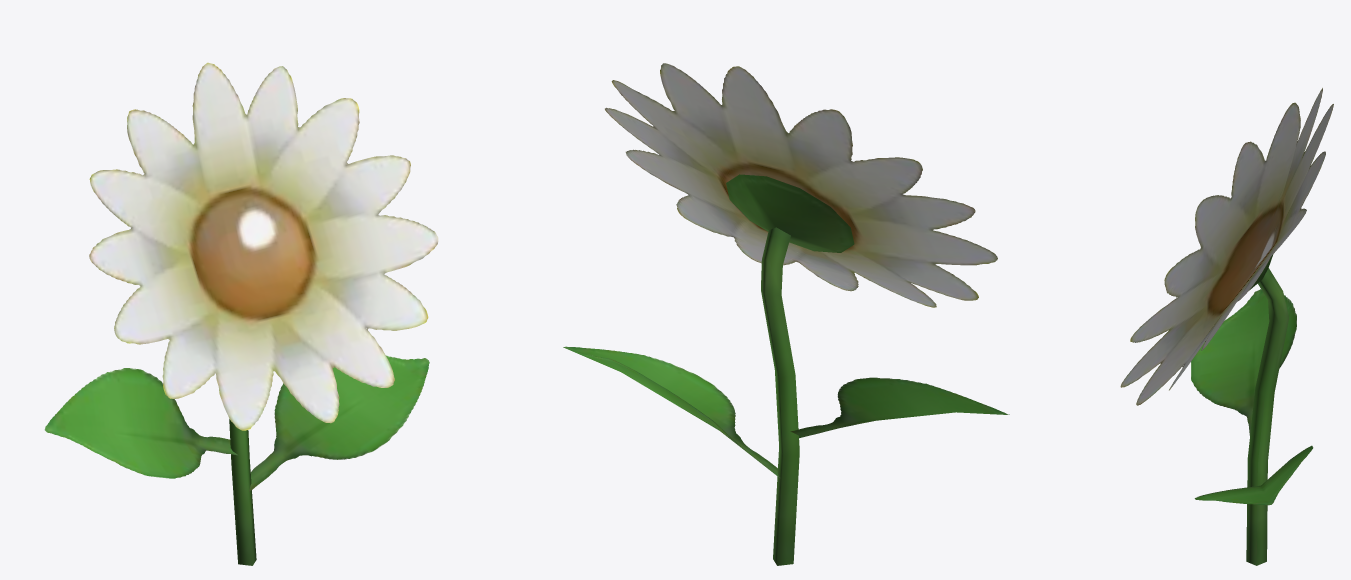
Rendered from whiteflower-transformed.glb.
The picture shows the model from 3 angles, left to right: view 1: azimuth 30°, elevation 25°; view 2: azimuth 150°, elevation 25°; view 3: azimuth 270°, elevation 25°; orthographic projection. The views are drawn at different scales.
Parts seen in each view (by area): view 1: whiteFlower; view 2: whiteFlower; view 3: whiteFlower.
Boxes of the visible parts, x1,y1,x2,y2 form: whiteFlower: (44,62,438,565); whiteFlower: (563,63,1009,565); whiteFlower: (1120,88,1333,565).
Size of the model in its own units: 0.8095 by 0.825 by 0.3626.
Materials: 1 (1 with a texture image).
